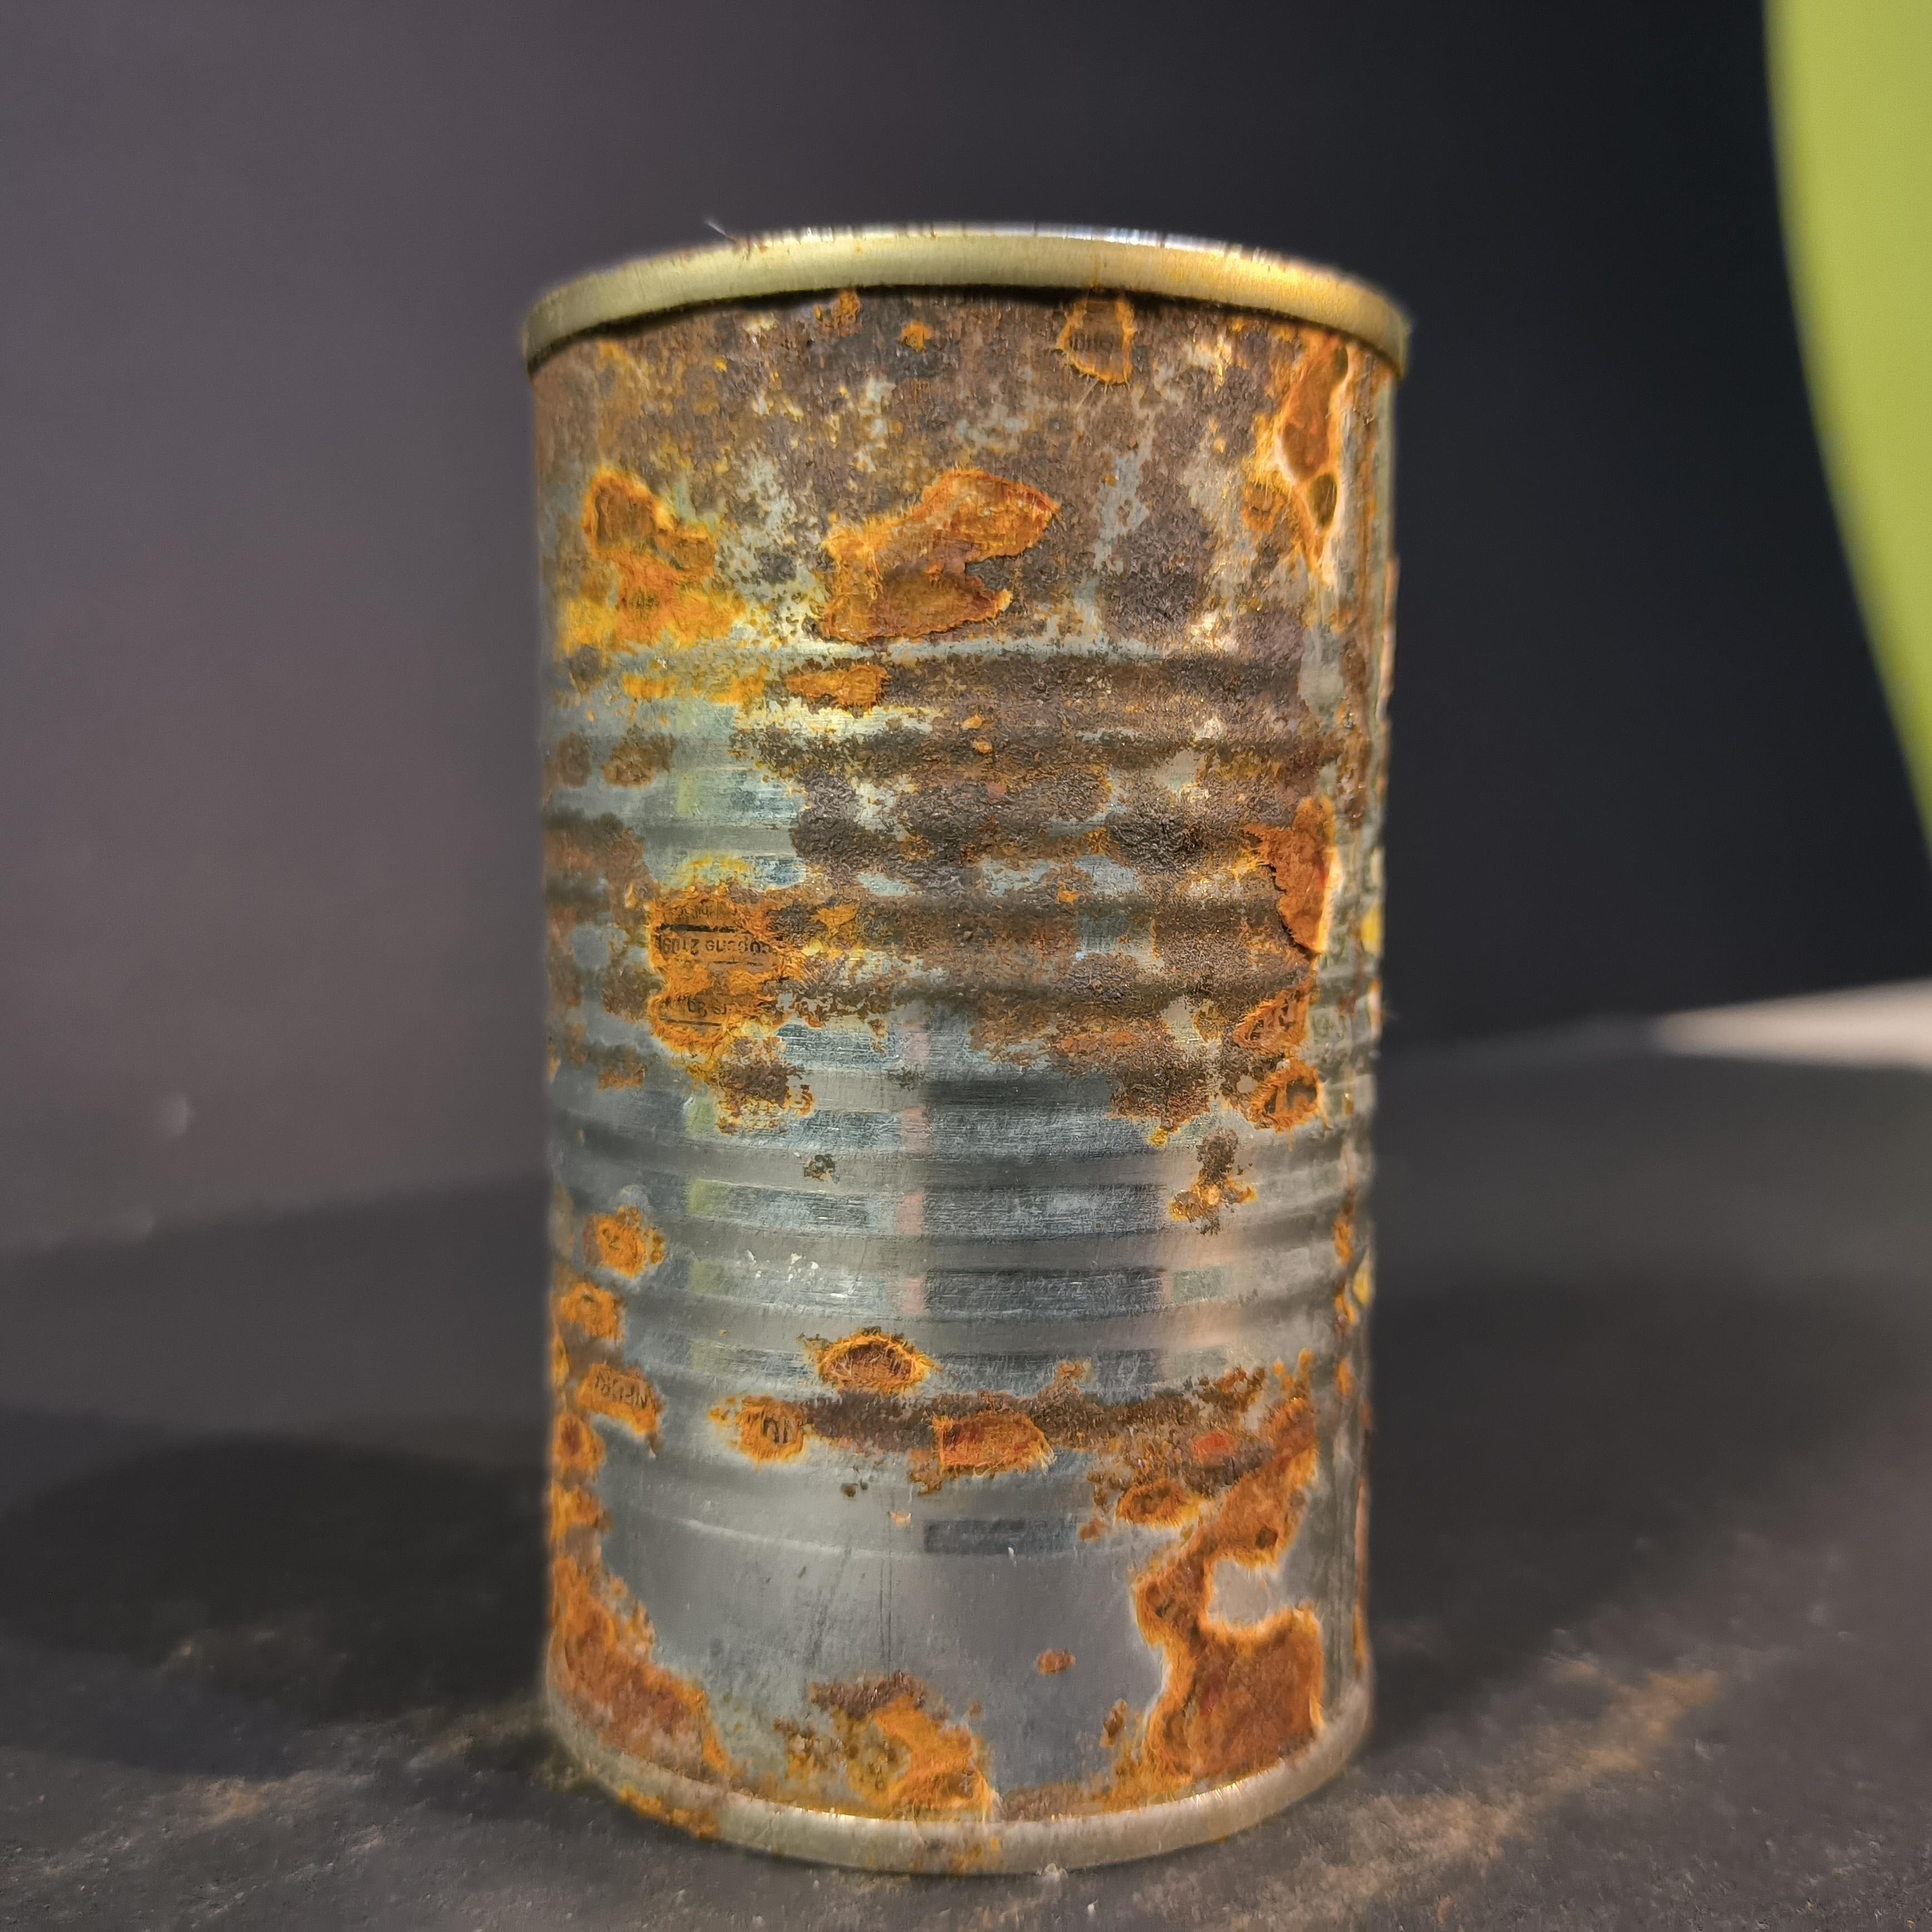Rusted: (490, 179, 1430, 1881)
